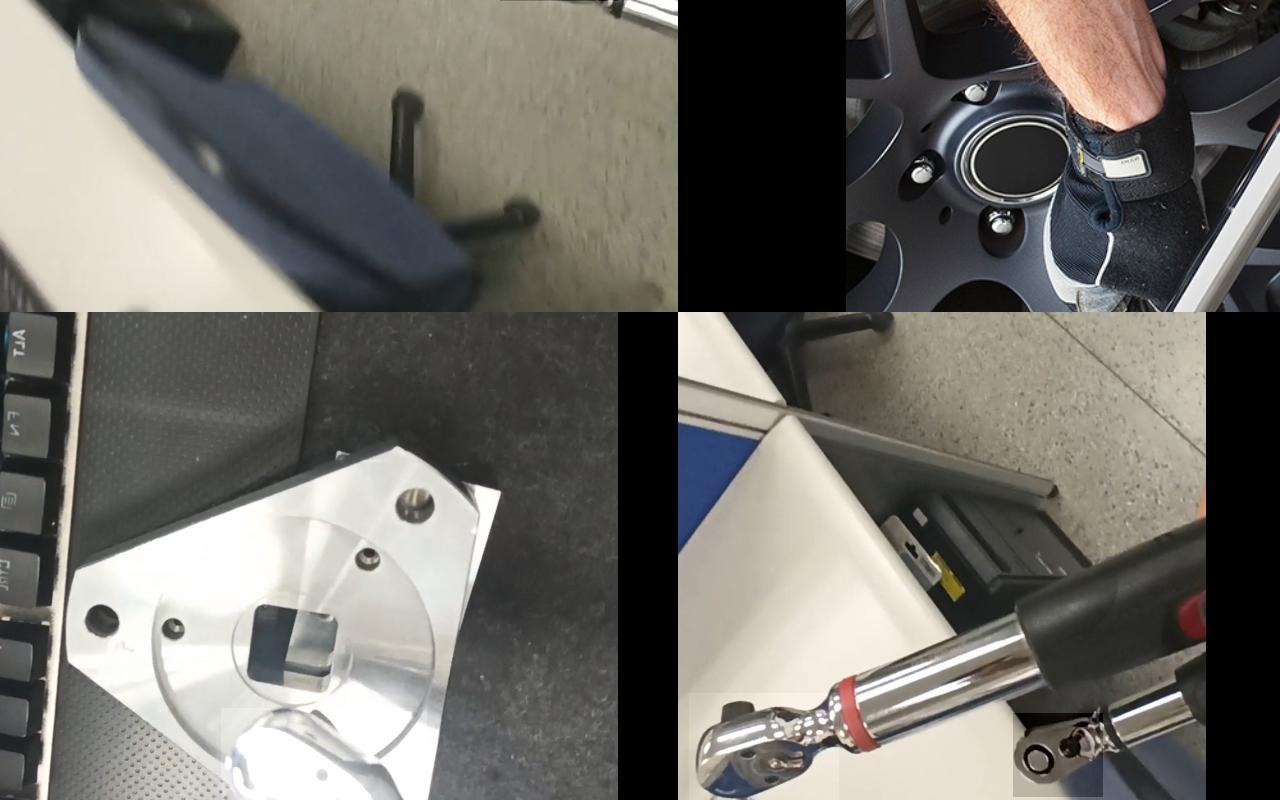Tool: (220, 708, 426, 800), (688, 693, 838, 800), (1012, 713, 1102, 797)
